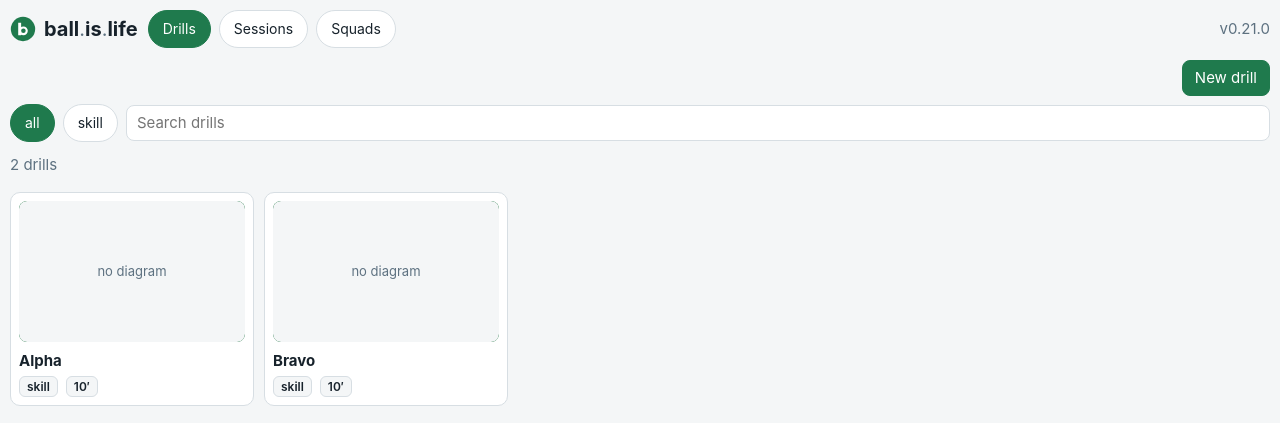
Test: App › shows a friendly message when a drill fails to open
What coordinates should you click on to do the following:
click the button "no diagram Alpha skill 10′"
I would click on:
 (132, 299)
Its box is [10,192,254,406].
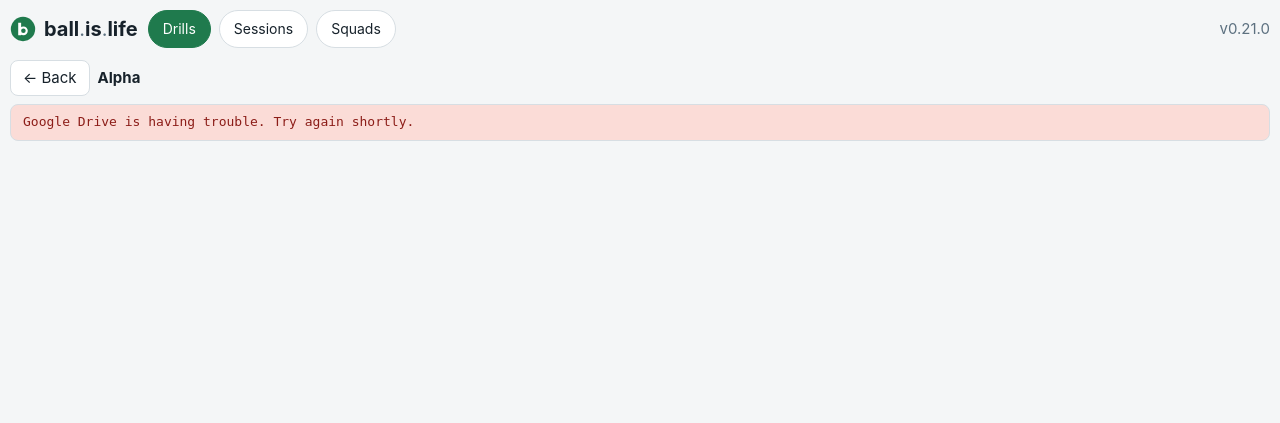
Check: the text "having trouble" is shown, box [23,114,414,129]
